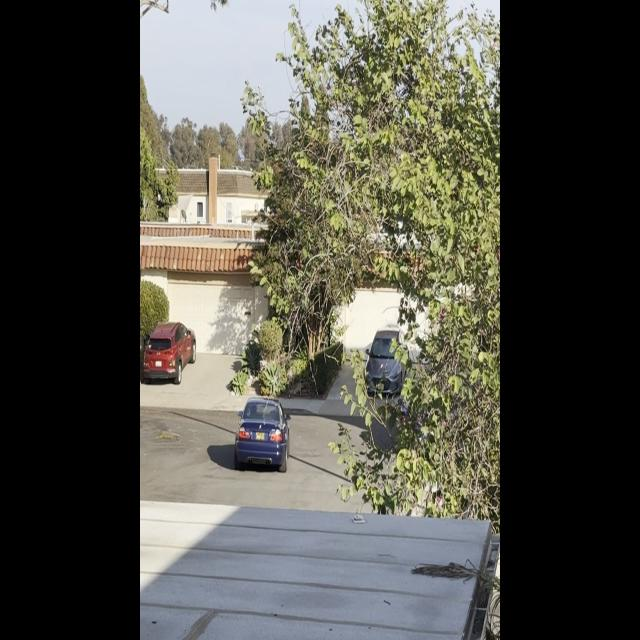Carbeetle: (226, 396, 296, 475)
Civilian: (140, 318, 199, 383), (363, 320, 409, 403)
